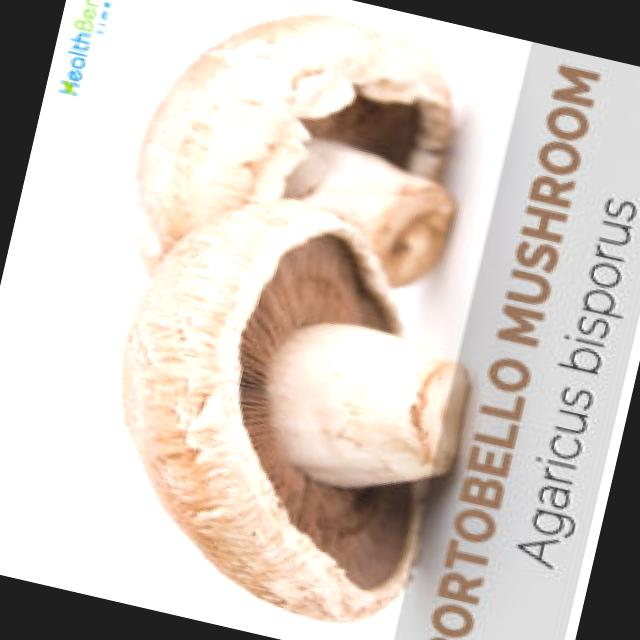Agaricus bisporus: (70, 168, 504, 640), (109, 0, 493, 338)
